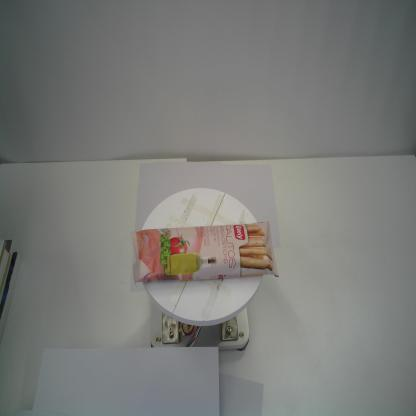Dessert: (128, 219, 280, 290)
